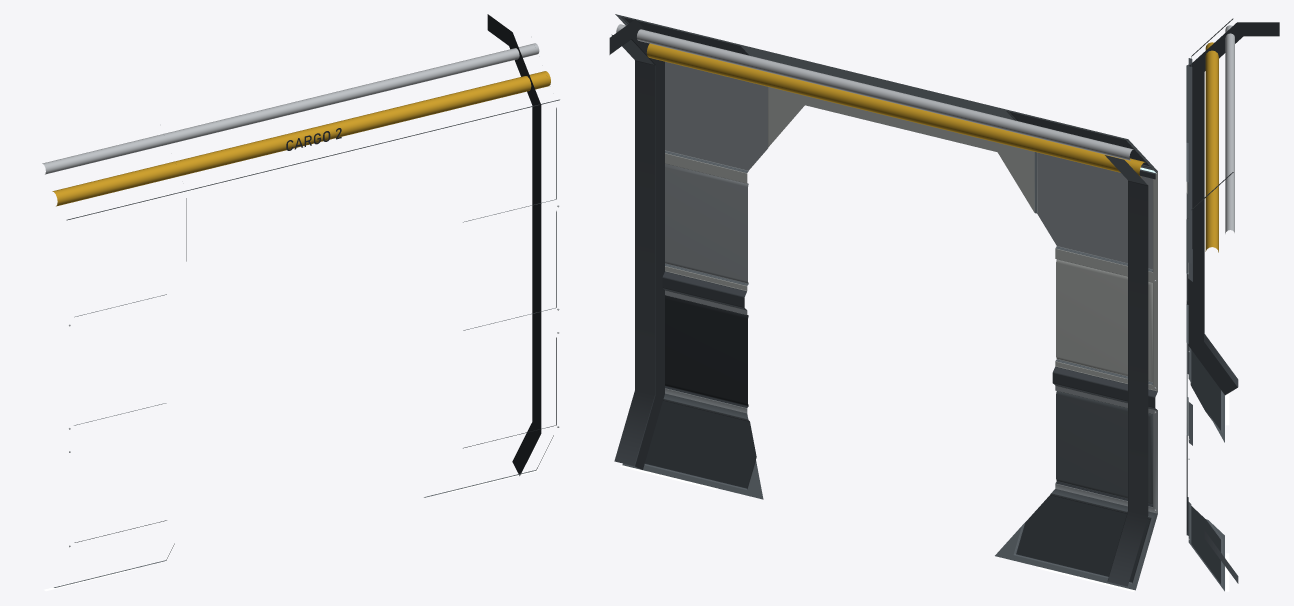
Rendered from room_wall_door.glb.
3 renders of one model, left to right at view 1: azimuth 30°, elevation 25°; view 2: azimuth 150°, elevation 25°; view 3: azimuth 270°, elevation 25°, orthographic. The views are drawn at different scales.
Visible parts, largest first — view 1: room_wall_door_pipes, room_wall_door_body, room_wall_door_decal, room_wall_door_detail; view 2: room_wall_door_body, room_wall_door_pipes; view 3: room_wall_door_body, room_wall_door_pipes, room_wall_door_detail, room_wall_door_decal.
Boxes of the visible parts, x1,y1,x2,y2 form: room_wall_door_pipes: (42, 43, 550, 206); room_wall_door_body: (54, 14, 556, 587); room_wall_door_decal: (44, 128, 538, 591); room_wall_door_detail: (66, 99, 559, 547); room_wall_door_body: (609, 14, 1157, 590); room_wall_door_pipes: (616, 24, 1145, 177); room_wall_door_body: (1186, 18, 1279, 591); room_wall_door_pipes: (1205, 25, 1234, 252); room_wall_door_detail: (1188, 58, 1192, 539); room_wall_door_decal: (1225, 393, 1229, 591).
Size of the model in its own units: 4 by 3.4 by 0.77.
